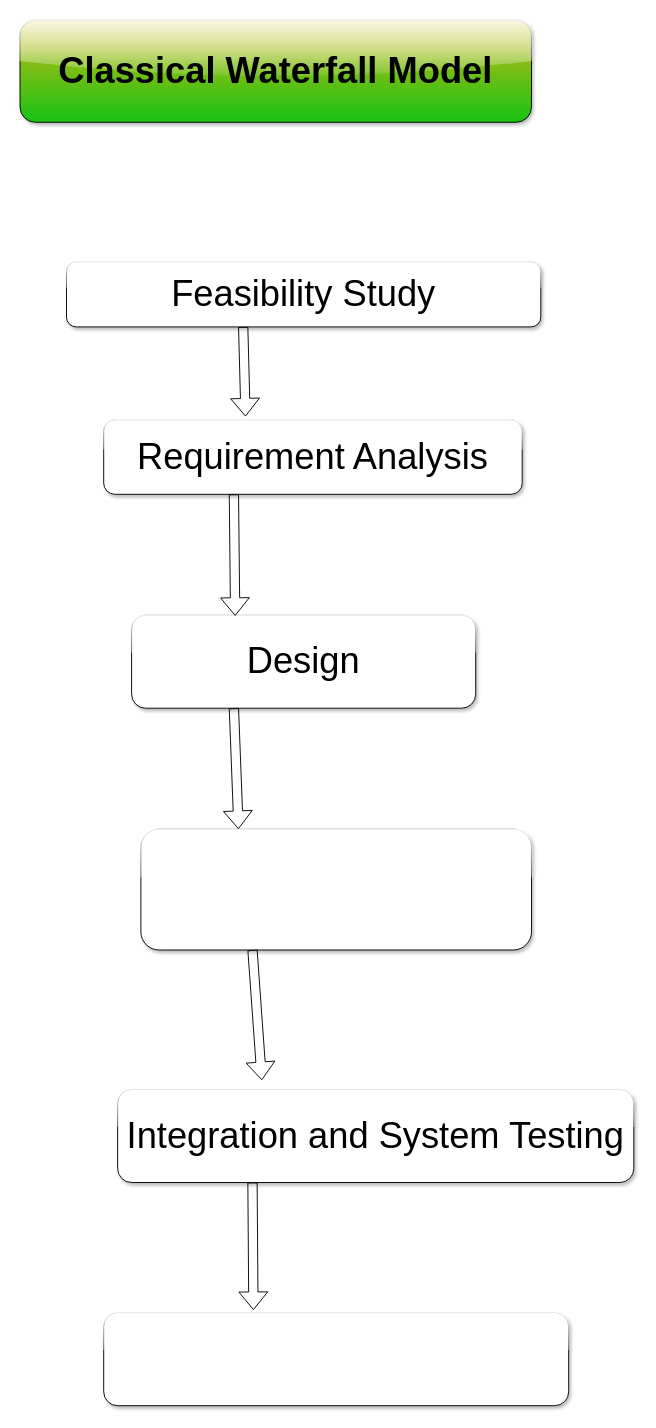
Some shapes in this 656 by 1428 pixel diagram are drawn without their labels. The shapes that lost their labels are listed below. From the top down, each one's centre as x and y in pixels, then its label:
At (336,890): "Coding and unit Testing".
At (336,1360): "Maintainance".
